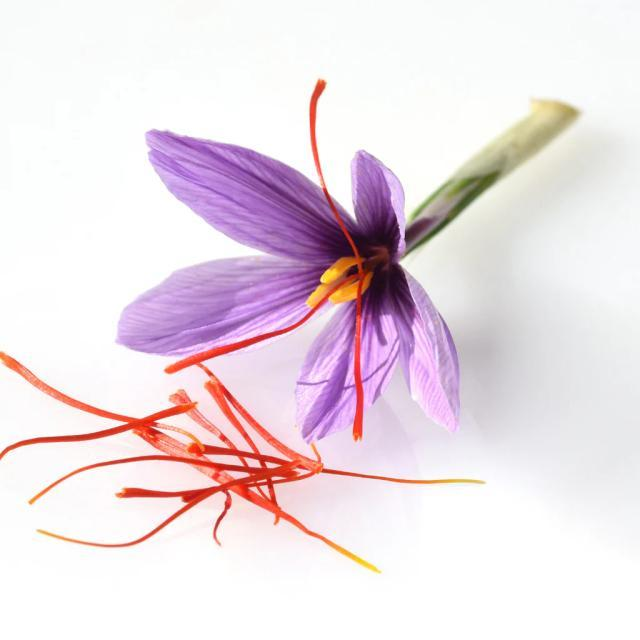Flower: (153, 118, 492, 436)
stigma: (306, 72, 371, 261), (158, 305, 318, 363), (334, 302, 375, 445)
